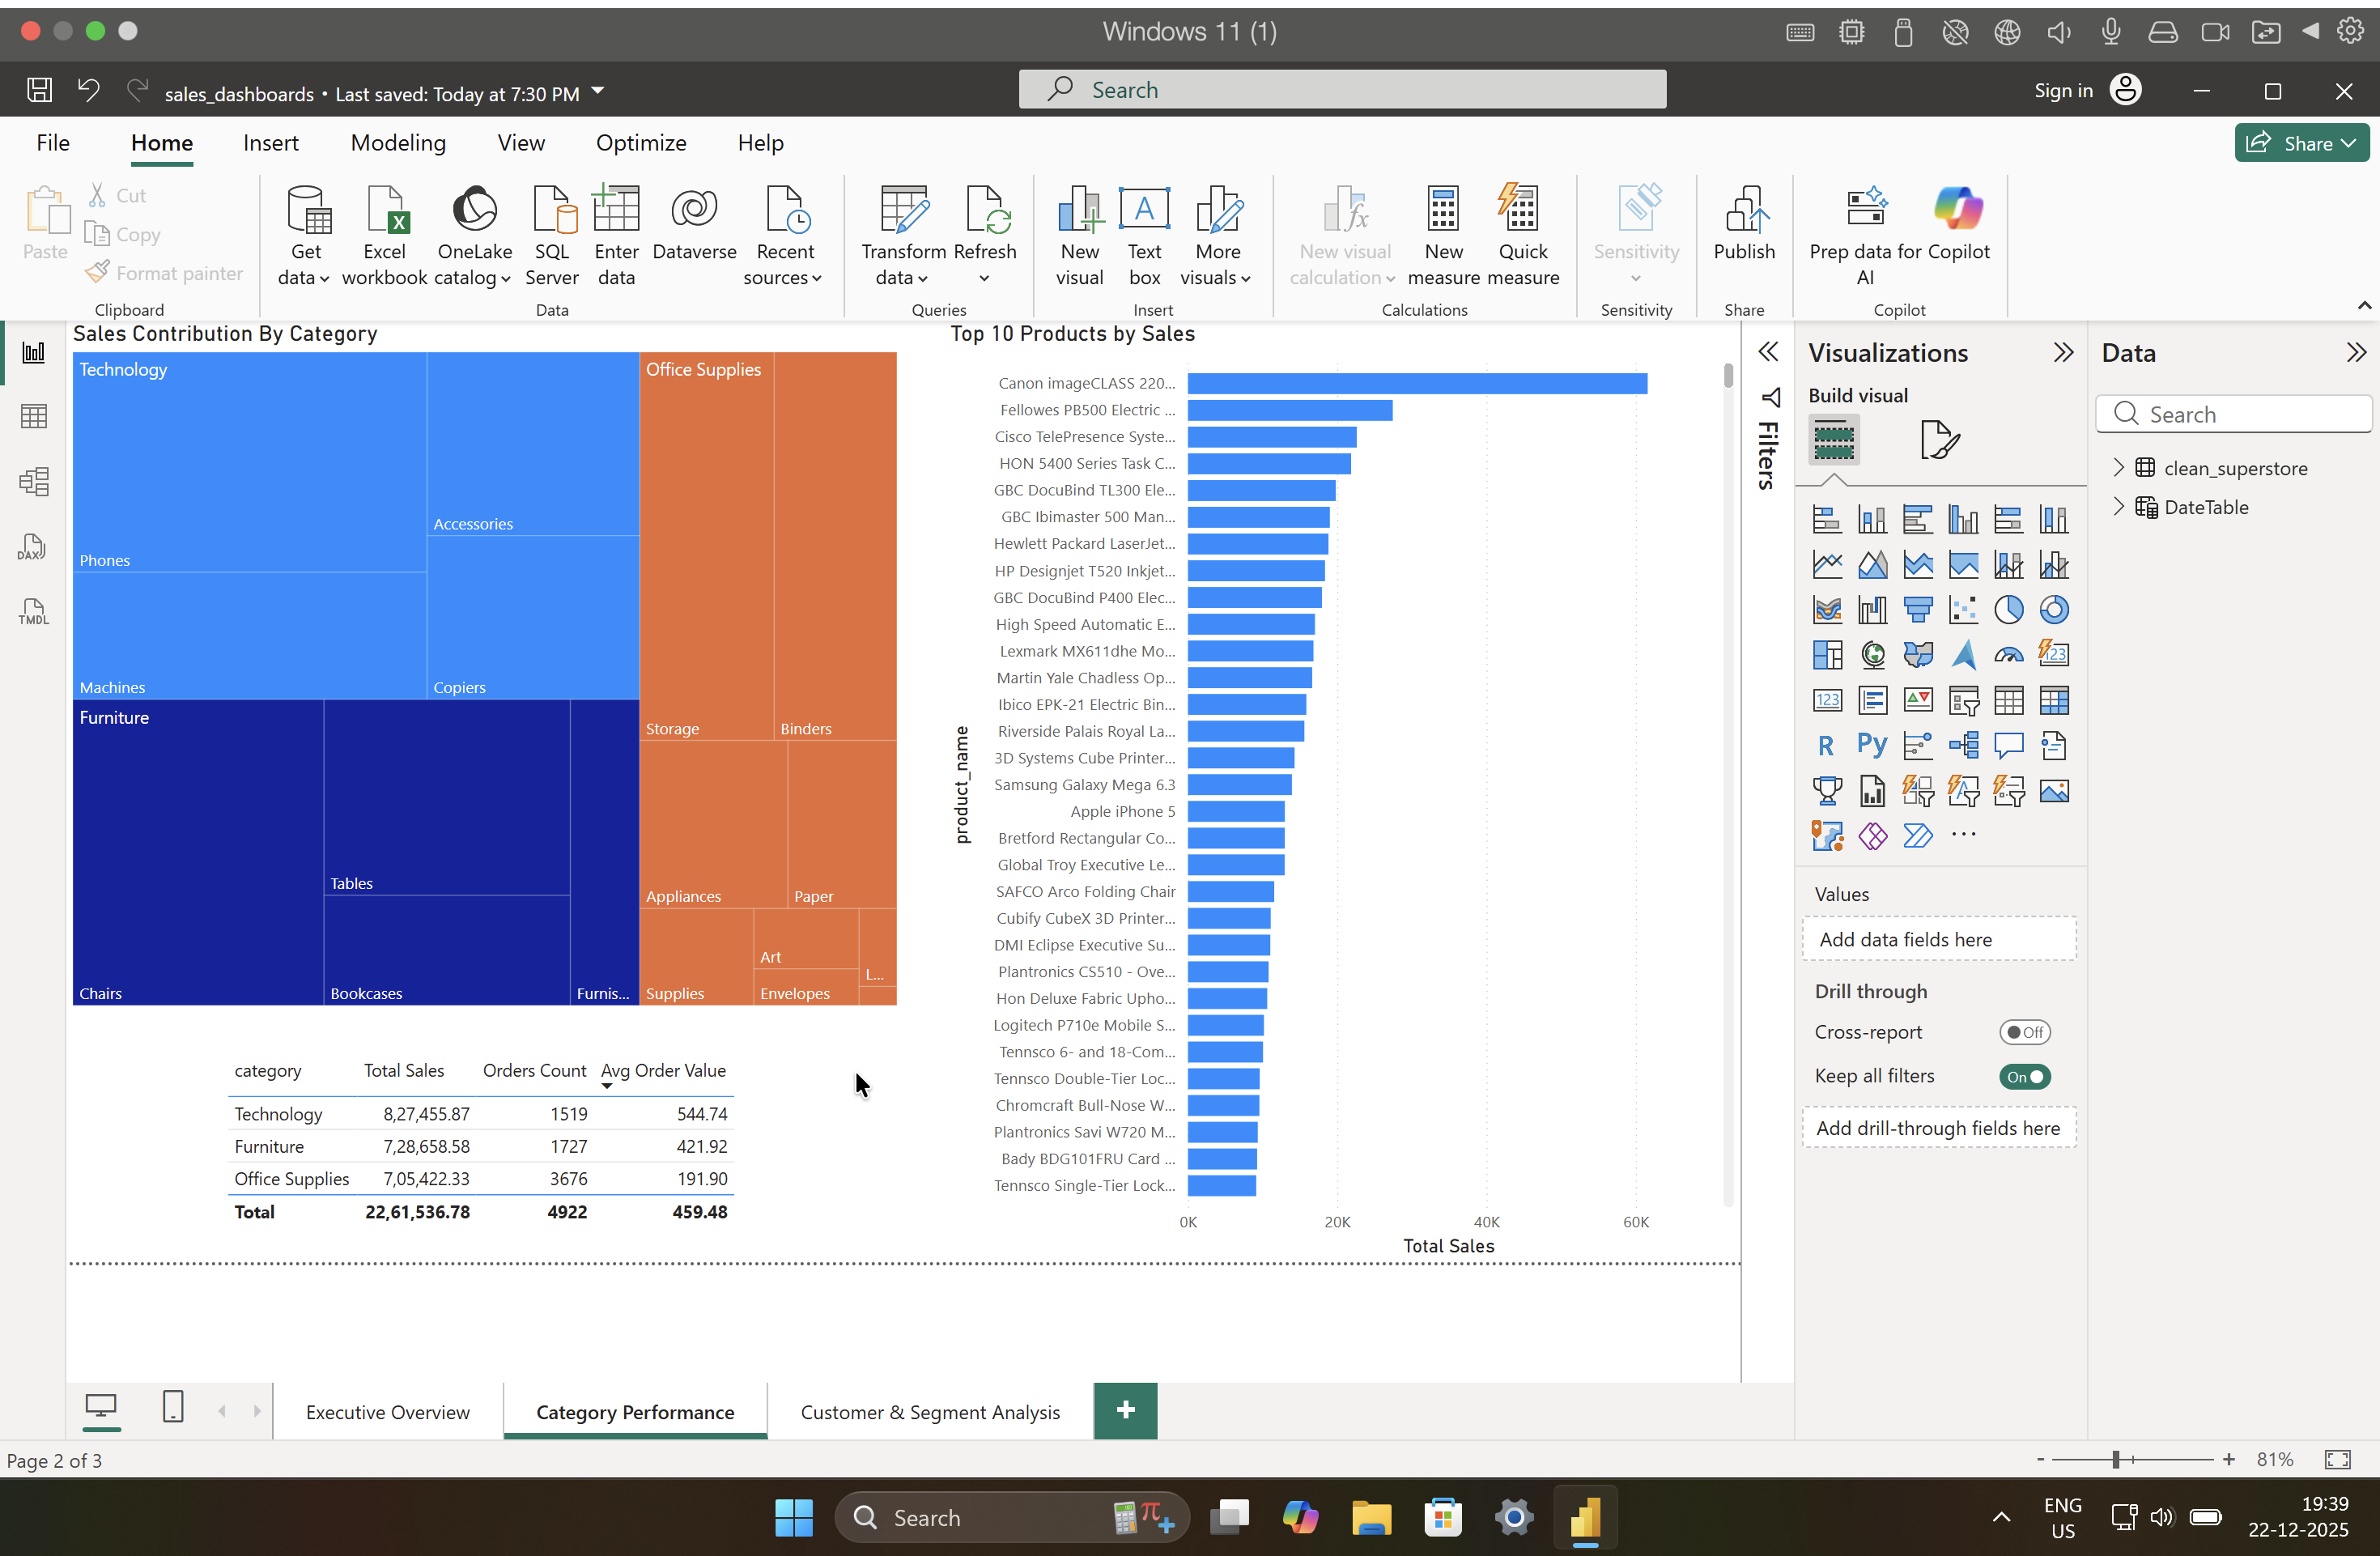

This screenshot's page, from the dashboard's own definition file:
{"tool":"powerbi","page":{"name":"Category Performance","canvas":[1280,720],"ordinal":1},"visuals":[{"type":"treemap","title":"Sales Contribution By Category","fields":{"Group":["clean_superstore.category"],"Details":["clean_superstore.sub_category"],"Values":["clean_superstore.Total Sales"]},"box":[0,0,640,528.6],"z":0},{"type":"clusteredBarChart","title":"Top 10 Products by Sales","fields":{"Category":["clean_superstore.product_name"],"Y":["clean_superstore.Total Sales"]},"box":[670.9,0,609.1,720.5],"z":1000},{"type":"tableEx","fields":{"Values":["clean_superstore.category","clean_superstore.Total Sales","clean_superstore.Orders Count","clean_superstore.Avg Order Value"]},"box":[117.6,555.8,406,164.6],"z":2000}]}

Visuals, with their boxes on the page's 1280x720 design canvas (x1, y1, x2, y2). These are canvas units, not pixel positions in the 2380x1556 screenshot, which may show the page scaled, cropped or inside an application window:
"Sales Contribution By Category" treemap: [x1=0, y1=0, x2=640, y2=529]
"Top 10 Products by Sales" clusteredBarChart: [x1=671, y1=0, x2=1280, y2=720]
tableEx - clean_superstore.category x clean_superstore.Total Sales: [x1=118, y1=556, x2=524, y2=720]
